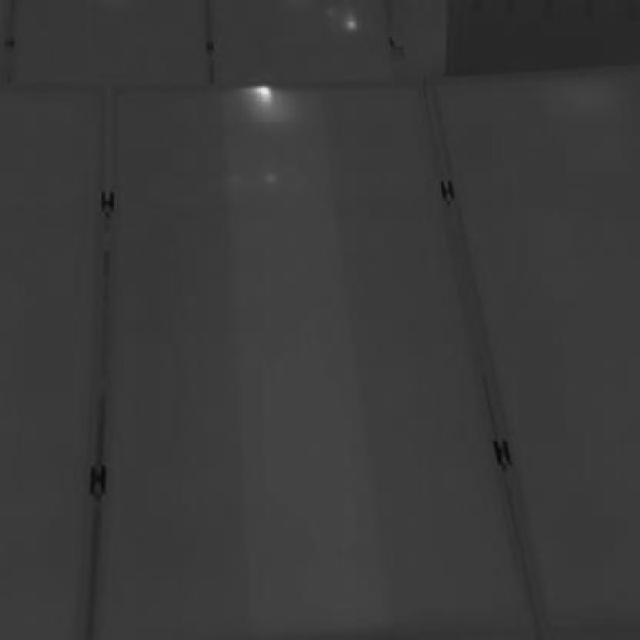hotspot: (247, 80, 282, 117)
